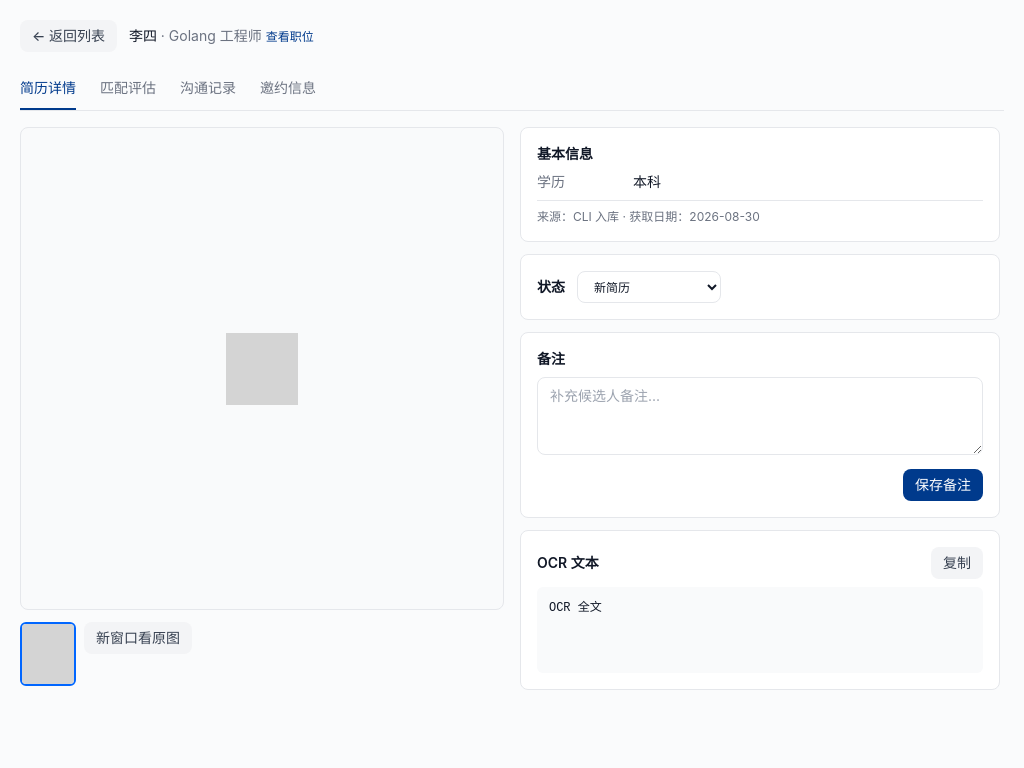
Test: ResumeDetail 挂载冒烟 › 沟通记录 tab：首次激活懒挂载并拉取列表，空态提示
Click the button "沟通记录" at (208, 89), box left=180, top=68, right=236, bottom=110
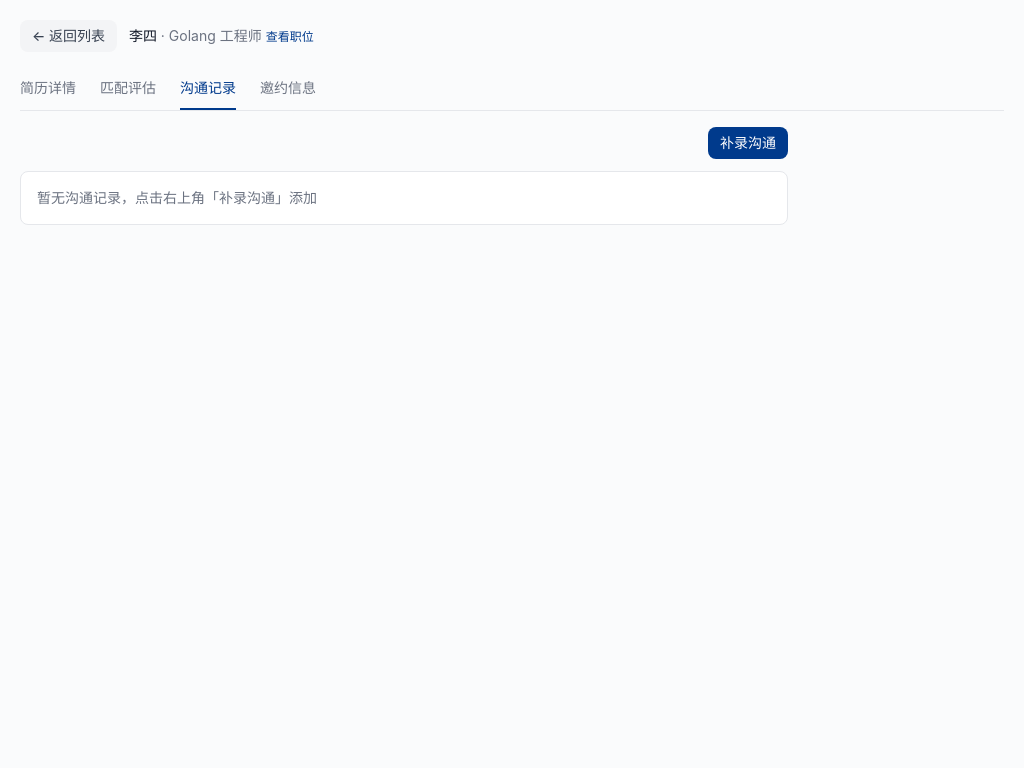
Check: the text "暂无沟通记录" is shown, box left=37, top=189, right=317, bottom=206
Check: the text "补录沟通" is shown, box left=708, top=127, right=788, bottom=159
